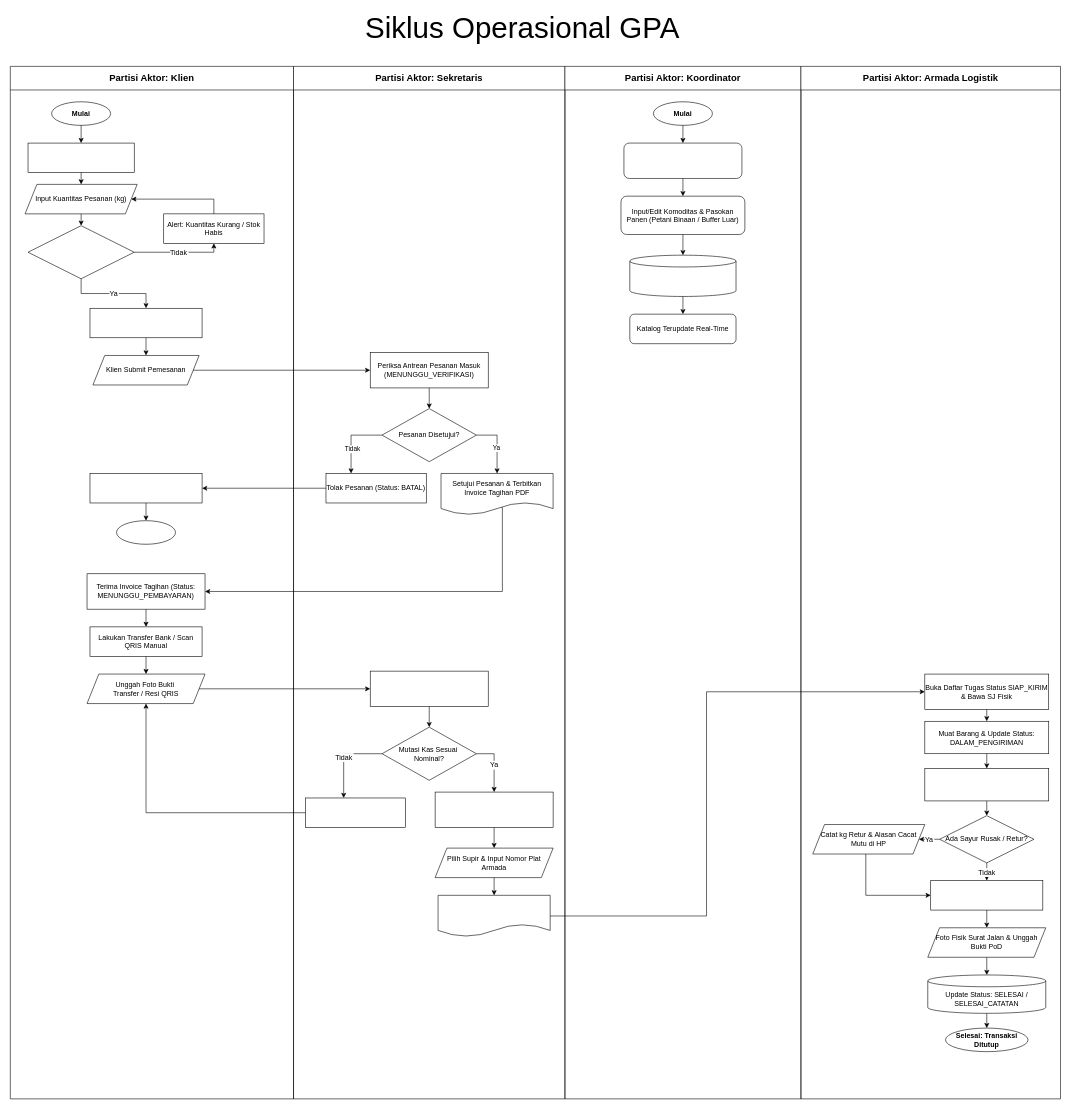
This 1071x1109 diagram has some shape labels left out. The shapes that lost their labels are listed below. From the top down, each one's centre as x and y in pixels, then its label:
At point (80, 157): "Buka Katalog Publik & Pilih Komoditas".
At point (682, 160): "Kelola Master Komoditas & Form Pasokan Stok".
At point (80, 252): "Order >= Min Order & Stok Cukup?".
At point (682, 275): "Simpan ke Tabel products & harvest_batches".
At point (145, 323): "Tentukan Jadwal Estimasi Pengiriman".
At point (145, 488): "Terima Notifikasi Pesanan Dibatalkan".
At point (146, 532): "Selesai (Batal)".
At point (429, 689): "Periksa Bukti Struk & Mutasi Kas Rekening Bank".
At point (986, 784): "Tiba di Lokasi & Serah Terima Barang Bersama PIC".
At point (355, 812): "Tolak Bukti & Kirim Catatan Revisi".
At point (494, 809): "Verifikasi Lunas: Kunci Akses Surat Jalan Terbuka".
At point (986, 895): "PIC Klien TTD & Cap Surat Jalan Fisik".
At point (493, 916): "Generate Dokumen PDF Surat Jalan (SJ-GPA-XXXX)".
